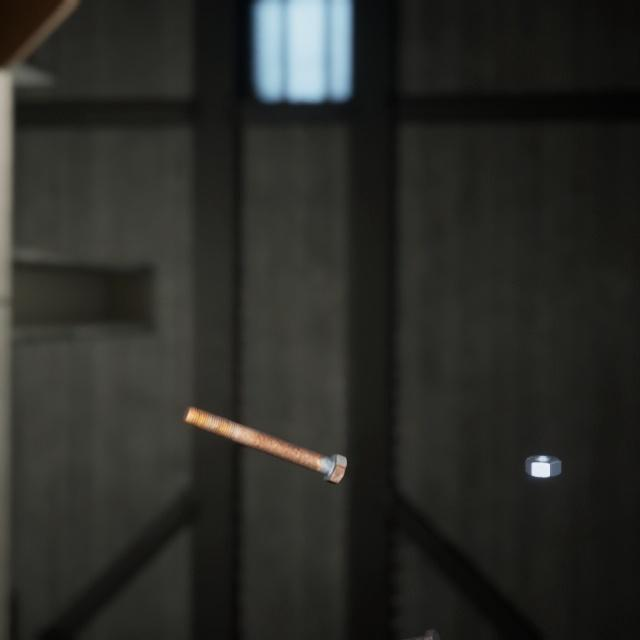bolt: (178, 380, 351, 467), (344, 601, 445, 638)
nut: (521, 430, 565, 461)
